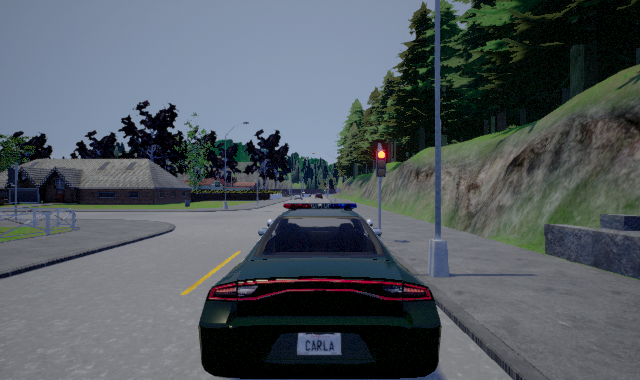traffic_light: (375, 145, 386, 178)
vehicle: (198, 203, 442, 379), (315, 192, 322, 199)
